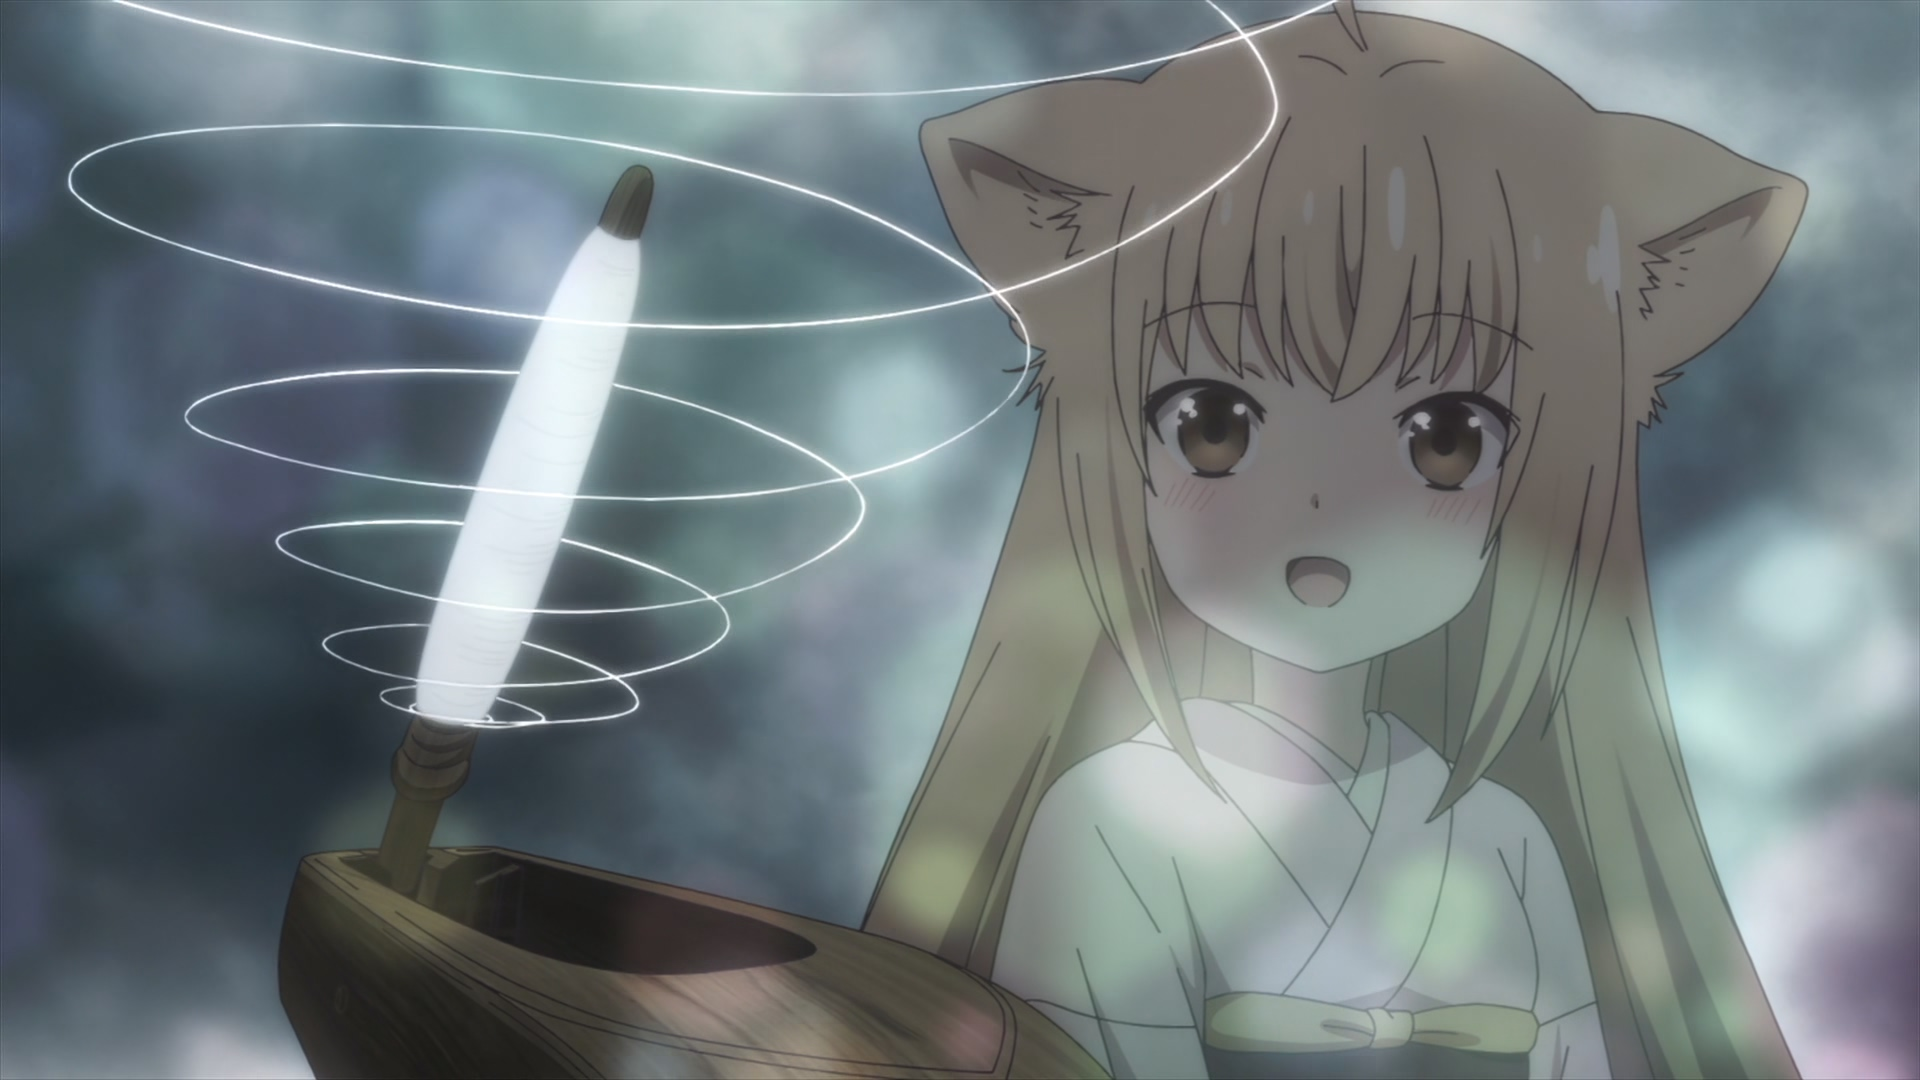柚: (861, 1, 1809, 1080)
